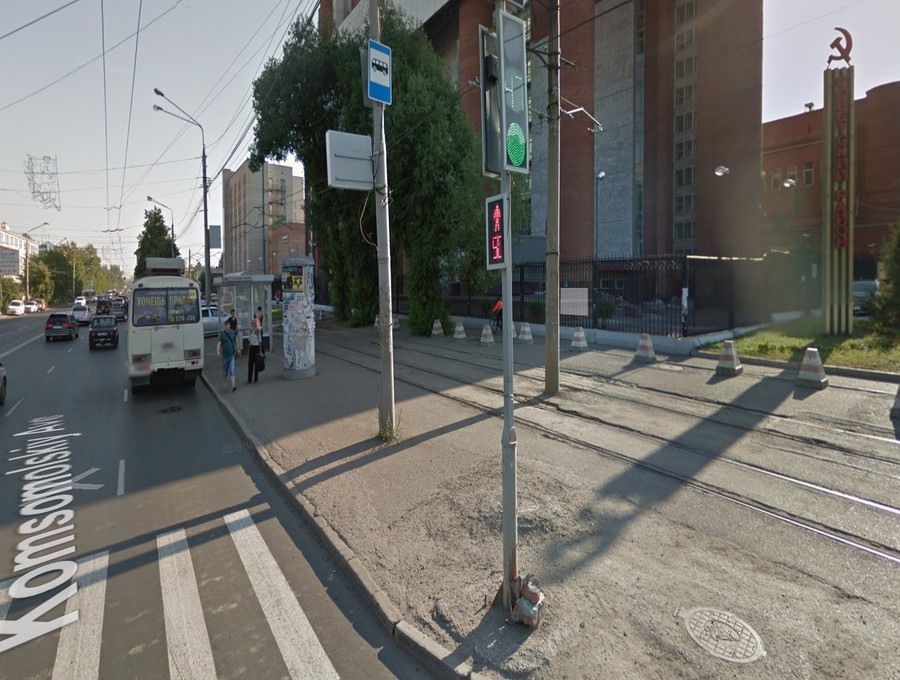Traffic Light-red: (481, 190, 516, 278)
